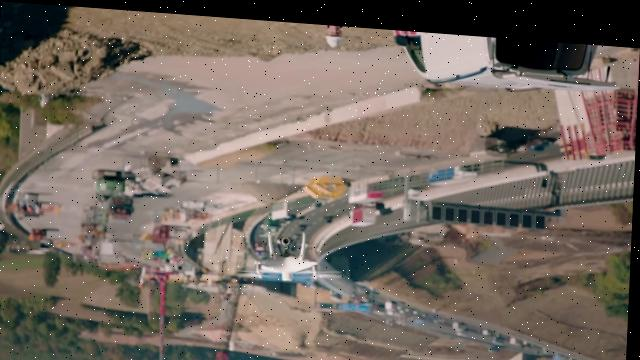drone: (237, 222, 347, 281)
